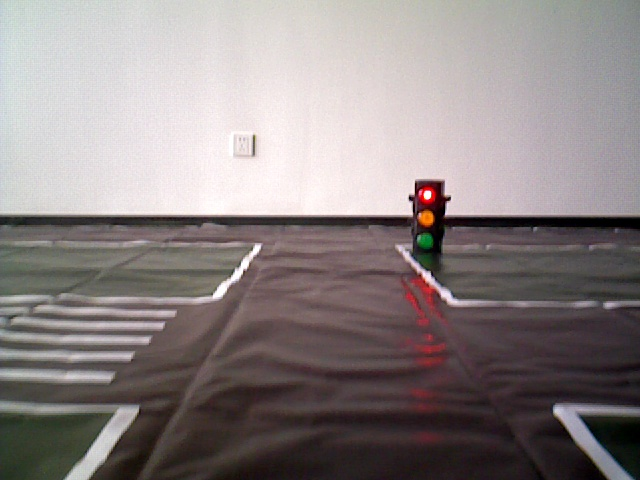red: (413, 181, 438, 254)
